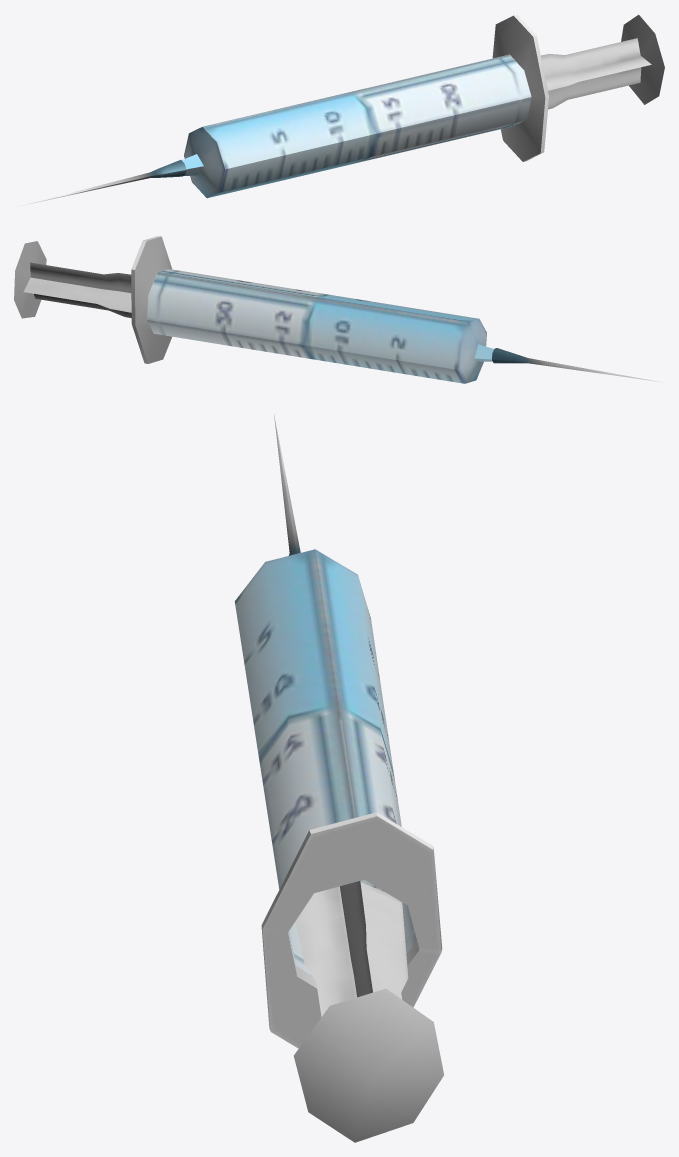
File: WuZhengDiaoChaKe_01_zhusheqi_01.FBX
3 views of the same model, one above another, from view 1: azimuth 30°, elevation 25°; view 2: azimuth 150°, elevation 25°; view 3: azimuth 270°, elevation 25° (orthographic). The views are drawn at different scales.
Visible parts, largest first — view 1: CeSuo_zhusheqi_01; view 2: CeSuo_zhusheqi_01; view 3: CeSuo_zhusheqi_01.
Boxes of the visible parts, box(x1,y1,x2,y2) form: CeSuo_zhusheqi_01: box(18, 14, 664, 206); CeSuo_zhusheqi_01: box(14, 236, 660, 383); CeSuo_zhusheqi_01: box(234, 414, 443, 1142).
Bounding box in the file's own units: 101 × 19.52 × 14.6.
